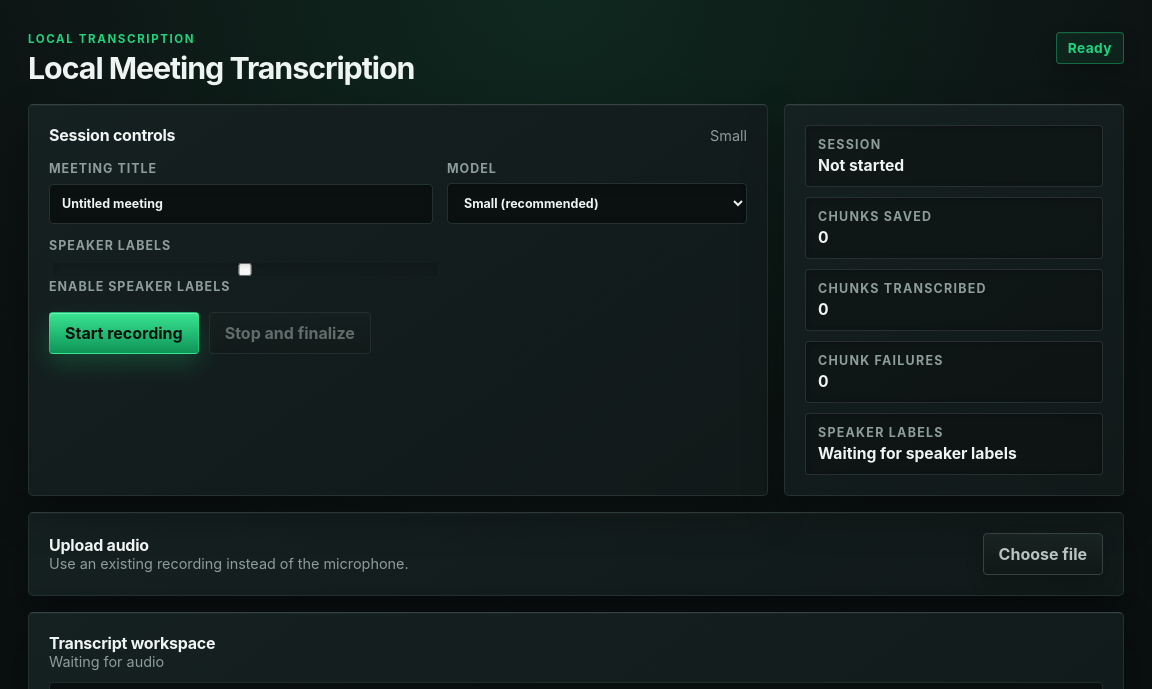
Test: App › does not recount replayed server-side chunk failure events
Click the button "Start recording".
click(124, 333)  # box [49,312,199,354]
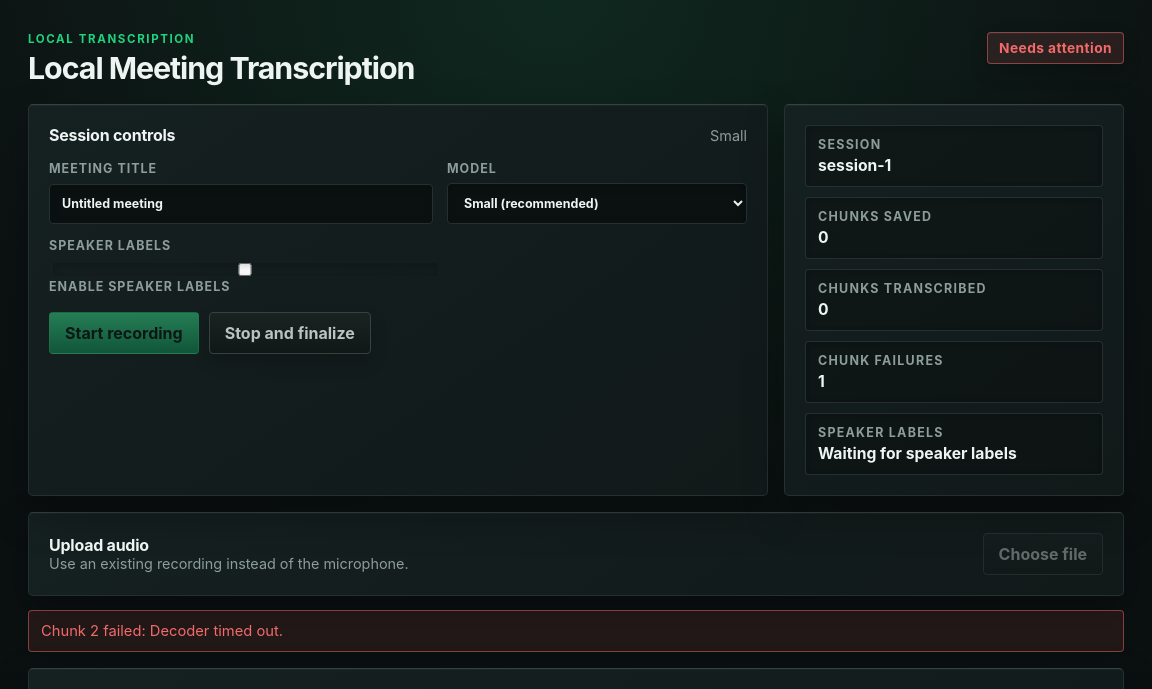
Expected: the message "Chunk 2 failed: Decoder timed out." is shown, [28,610,1124,652]
Expected: the message "Needs attention" is shown, [987,32,1124,64]
Expected: the text "Chunk failures" shows "1", [818,372,825,391]
